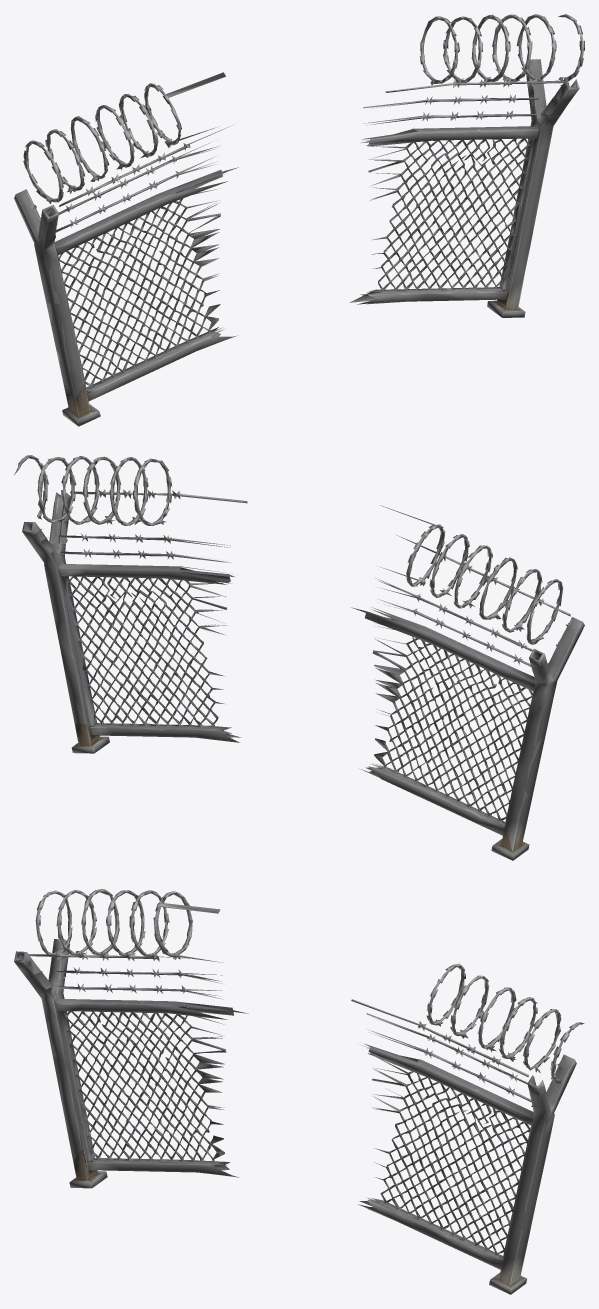
The model's file is fence_wreck.glb.
3 renders of one model, top to bottom at view 1: azimuth 30°, elevation 25°; view 2: azimuth 150°, elevation 25°; view 3: azimuth 330°, elevation 25°, orthographic.
Visible parts, largest first — view 1: wall.001; view 2: wall.001; view 3: wall.001.
Boxes of the visible parts, x1,y1,x2,y2 form: wall.001: (14,14,584,426); wall.001: (14,455,584,860); wall.001: (14,889,584,1294).
Size of the model in its own units: 3.63 by 1.99 by 0.4755.
1 material, 1 textured.
